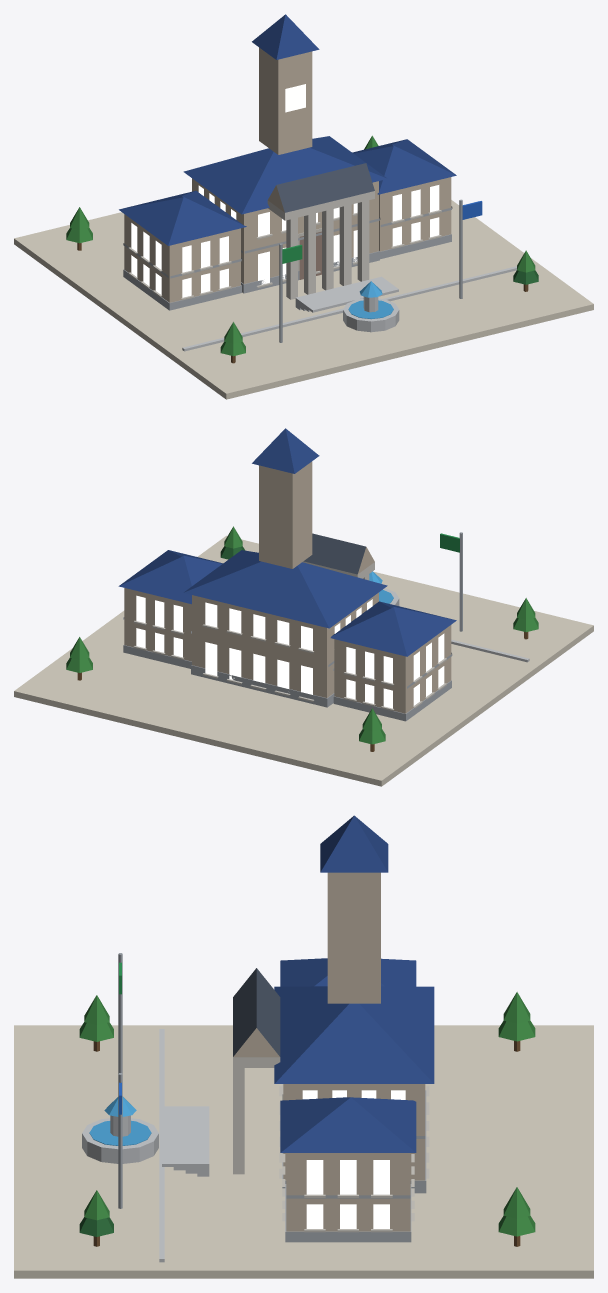
3 views of the same model, one above another, from view 1: azimuth 30°, elevation 25°; view 2: azimuth 150°, elevation 25°; view 3: azimuth 270°, elevation 25° (orthographic). The views are drawn at different scales.
Visible parts, largest first — view 1: b21_x2; view 2: b21_x2; view 3: b21_x2.
Boxes of the visible parts, x1=… form: b21_x2: x1=14, y1=14, x2=593, y2=399; b21_x2: x1=14, y1=428, x2=593, y2=786; b21_x2: x1=14, y1=815, x2=593, y2=1278.
Size of the model in its own units: 1.96 by 1.27 by 1.96.
